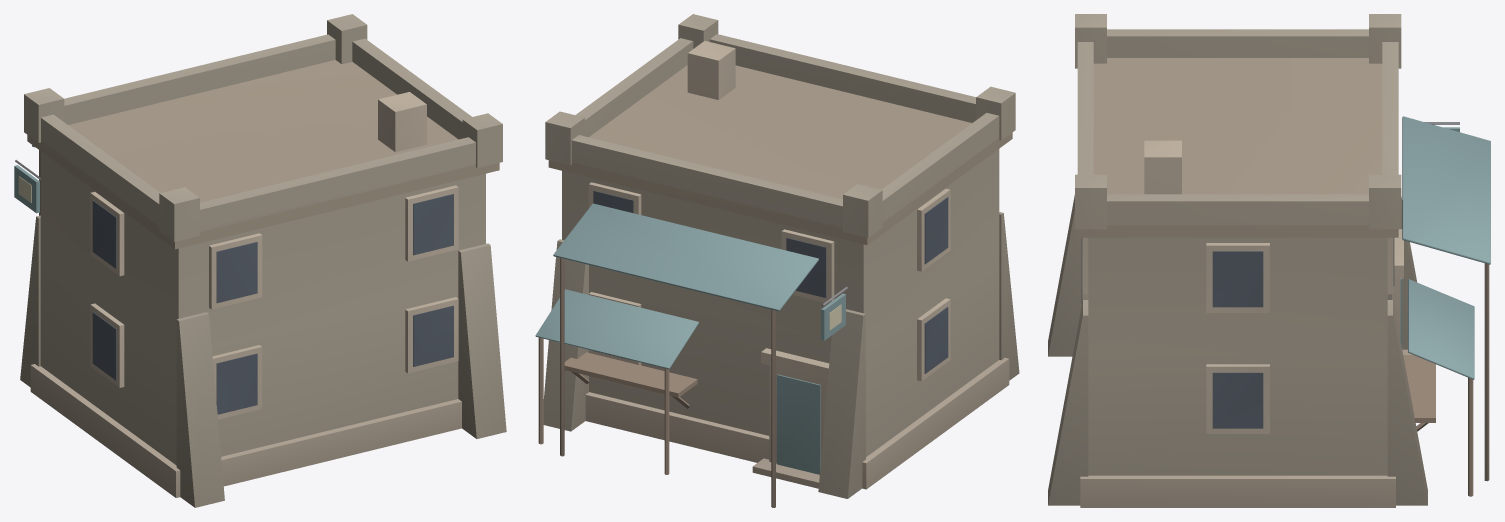
The model's file is shop_sun.gltf.
3 renders of one model, left to right at view 1: azimuth 30°, elevation 25°; view 2: azimuth 150°, elevation 25°; view 3: azimuth 270°, elevation 25°, orthographic. The views are drawn at different scales.
Visible parts, largest first — view 1: Body; view 2: Body; view 3: Body.
Boxes of the visible parts, bbox=[...] form: Body: bbox=[14, 14, 506, 507]; Body: bbox=[535, 14, 1019, 507]; Body: bbox=[1048, 14, 1490, 507].
Size of the model in its own units: 7.7 by 6.8 by 8.28.
